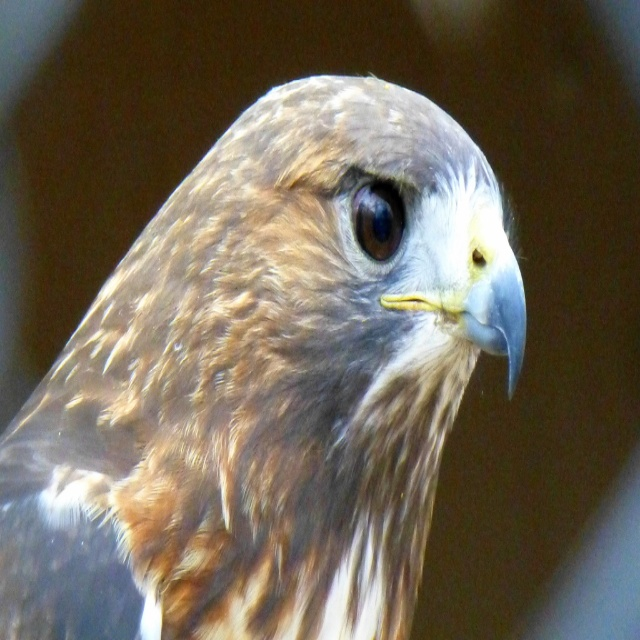Eagle: (0, 73, 532, 639)
